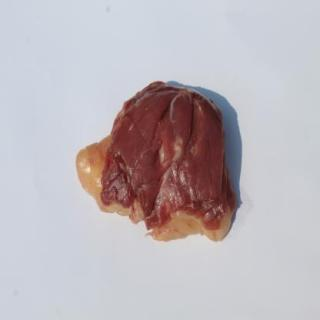Daging Sapi: (76, 83, 237, 244)
